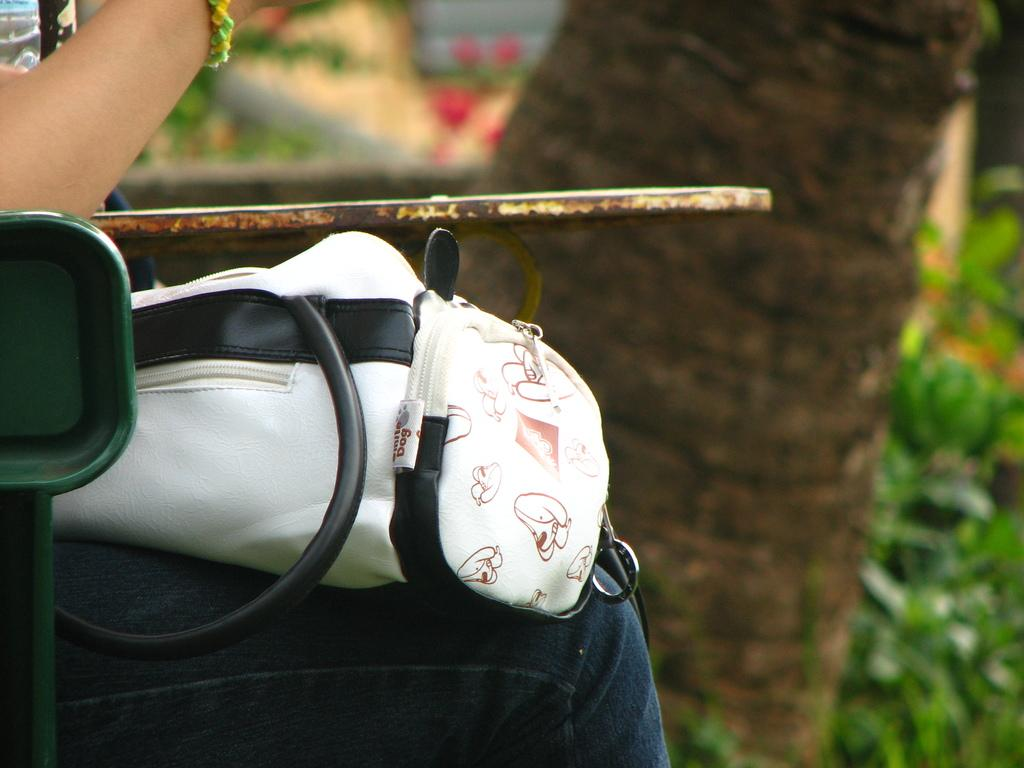Luggage-and-bags: (150, 262, 619, 621)
